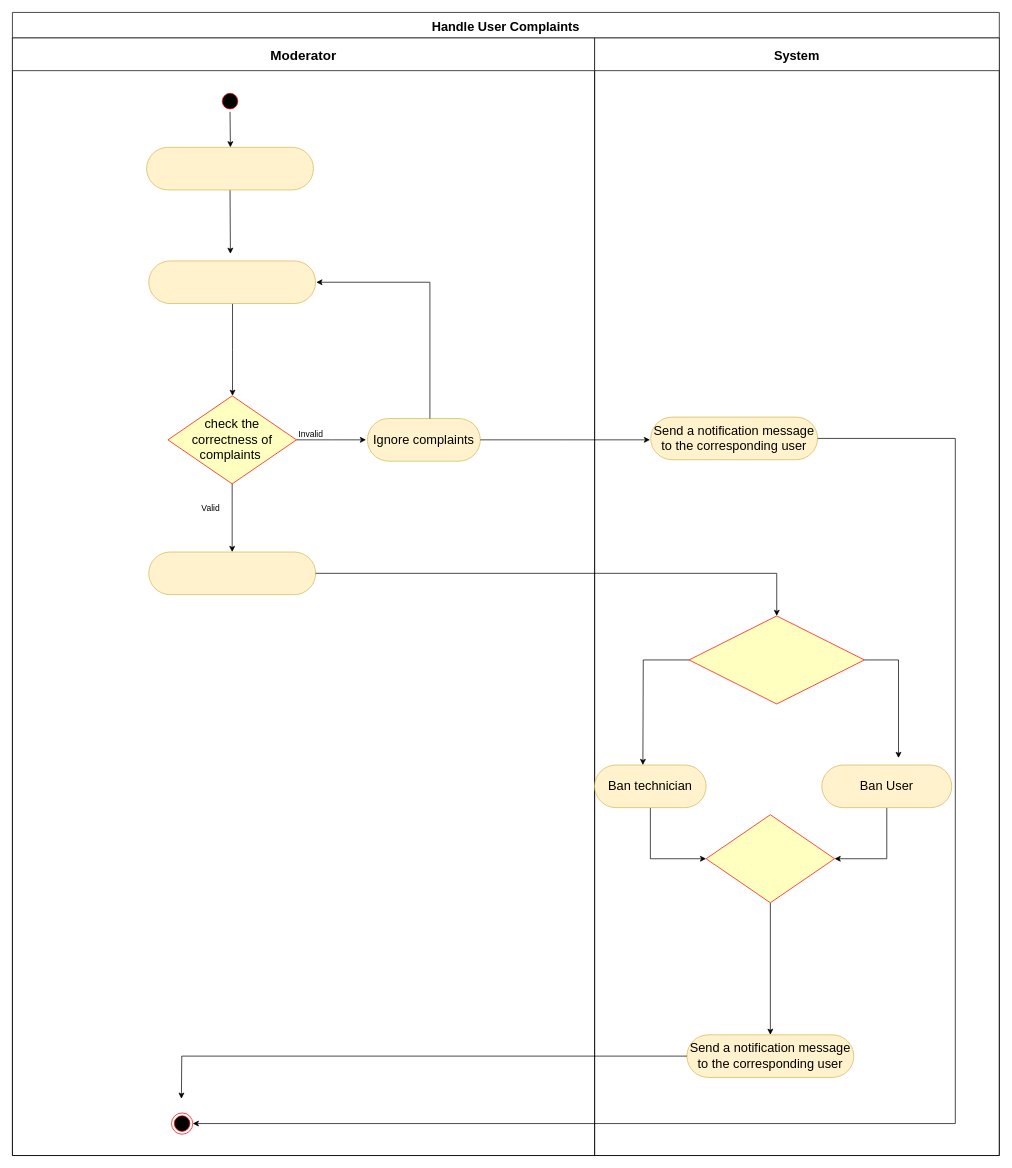
Some shapes in this 1012 by 1168 pixel diagram are drawn without their labels. Here are the shapes that lost their labels. From the top down, the centre of each, then its label:
the point at 229,168: Navigate to the user complaints section
the point at 232,282: Select a complaint
the point at 232,573: Accept complaints
the point at 776,659: Make changes related to the complaints
